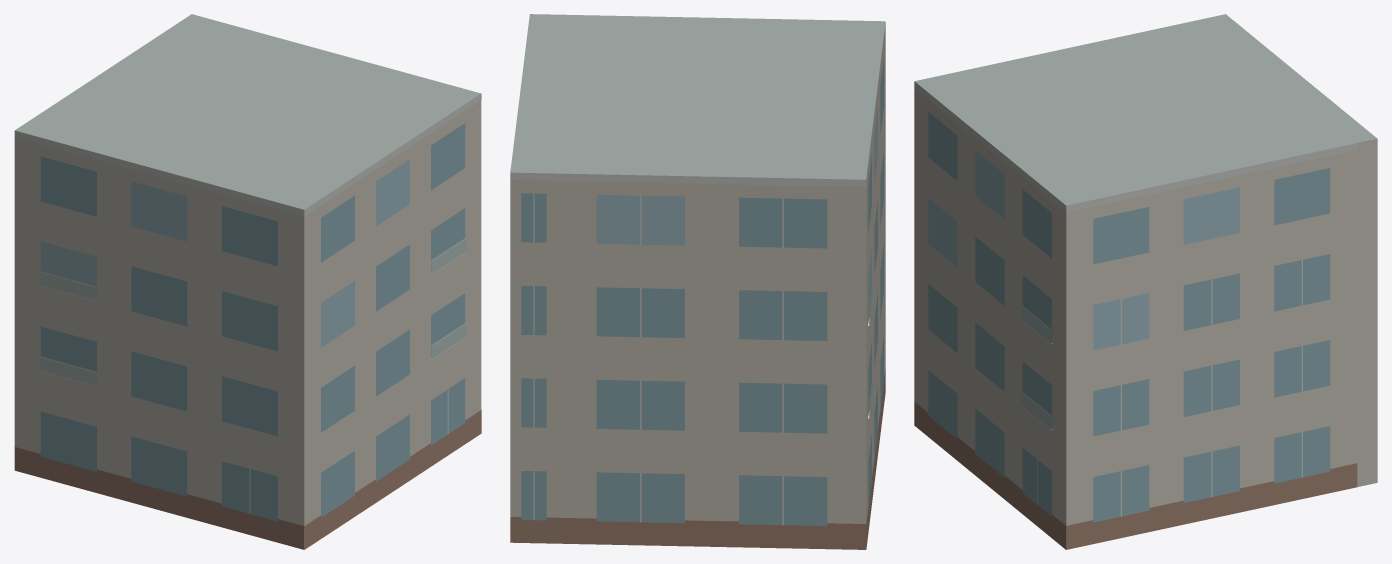
Rendered from survey-upis-32836825.glb.
3 renders of one model, left to right at view 1: azimuth 30°, elevation 25°; view 2: azimuth 150°, elevation 25°; view 3: azimuth 270°, elevation 25°, orthographic. The views are drawn at different scales.
Visible parts, largest first — view 1: survey-upis-32836825.tmp; view 2: survey-upis-32836825.tmp; view 3: survey-upis-32836825.tmp.
Boxes of the visible parts, left/top/right/bottom form: survey-upis-32836825.tmp: left=14, top=14, right=481, bottom=549; survey-upis-32836825.tmp: left=510, top=14, right=885, bottom=549; survey-upis-32836825.tmp: left=914, top=14, right=1377, bottom=549.
Size of the model in its own units: 14.57 by 12.2 by 14.89.
